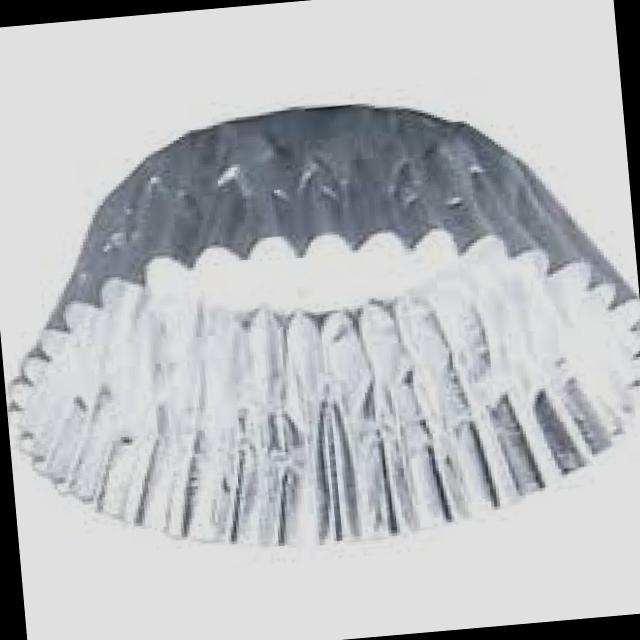kim_loai: (7, 101, 640, 562)
